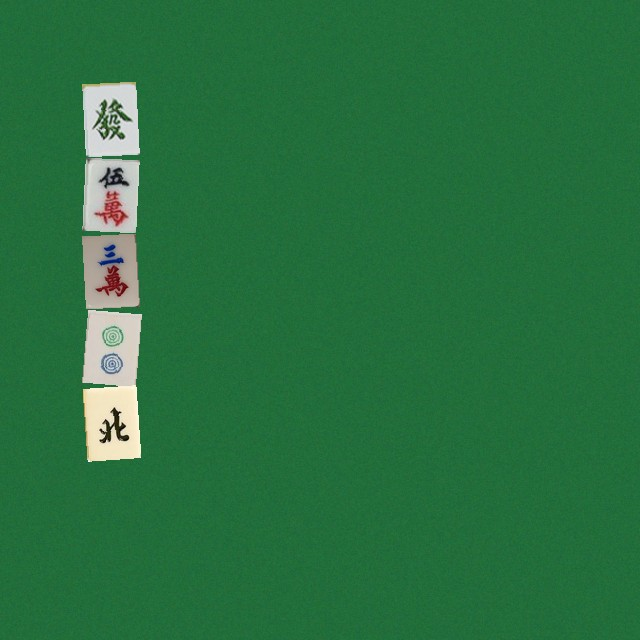tile: (82, 81, 136, 154), (82, 157, 136, 230), (82, 233, 136, 306), (82, 309, 136, 382), (82, 385, 136, 458)
